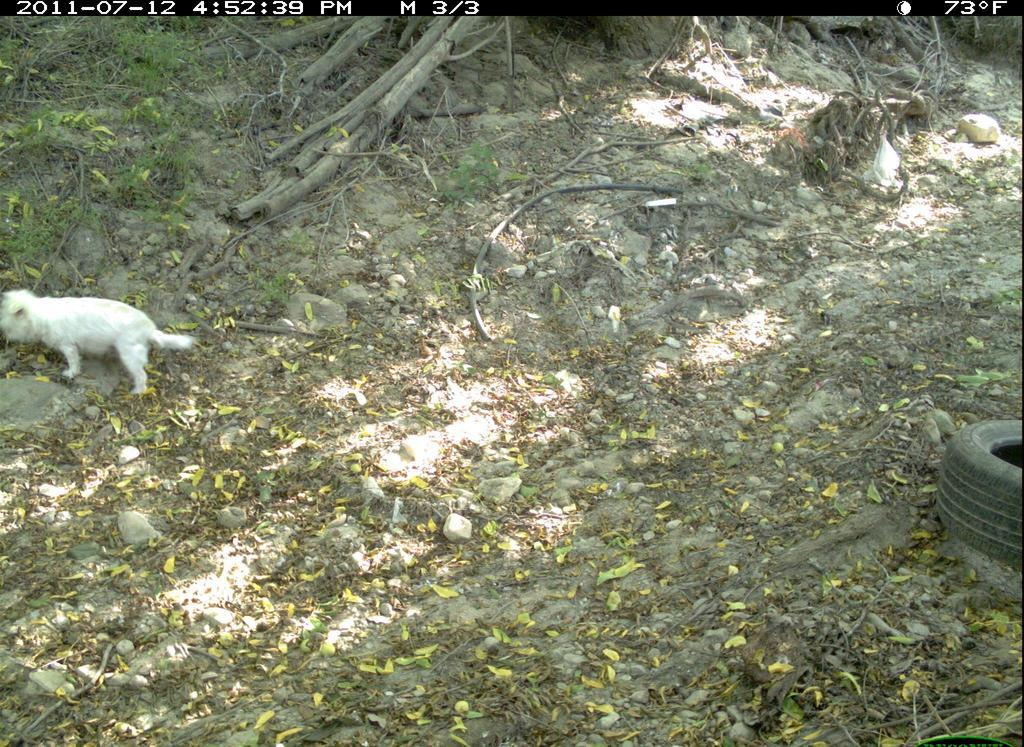dog: (6, 286, 205, 405)
